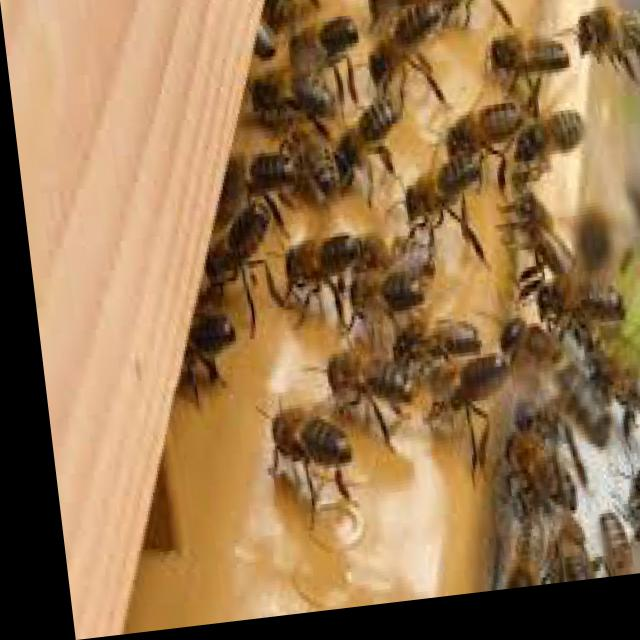Abeille: (483, 303, 614, 473), (237, 396, 360, 543), (298, 332, 413, 454), (357, 6, 445, 109), (557, 3, 639, 110), (393, 170, 489, 261), (382, 312, 485, 390), (270, 226, 362, 310), (499, 123, 586, 208), (435, 110, 524, 191), (328, 117, 403, 211), (482, 33, 570, 111)
